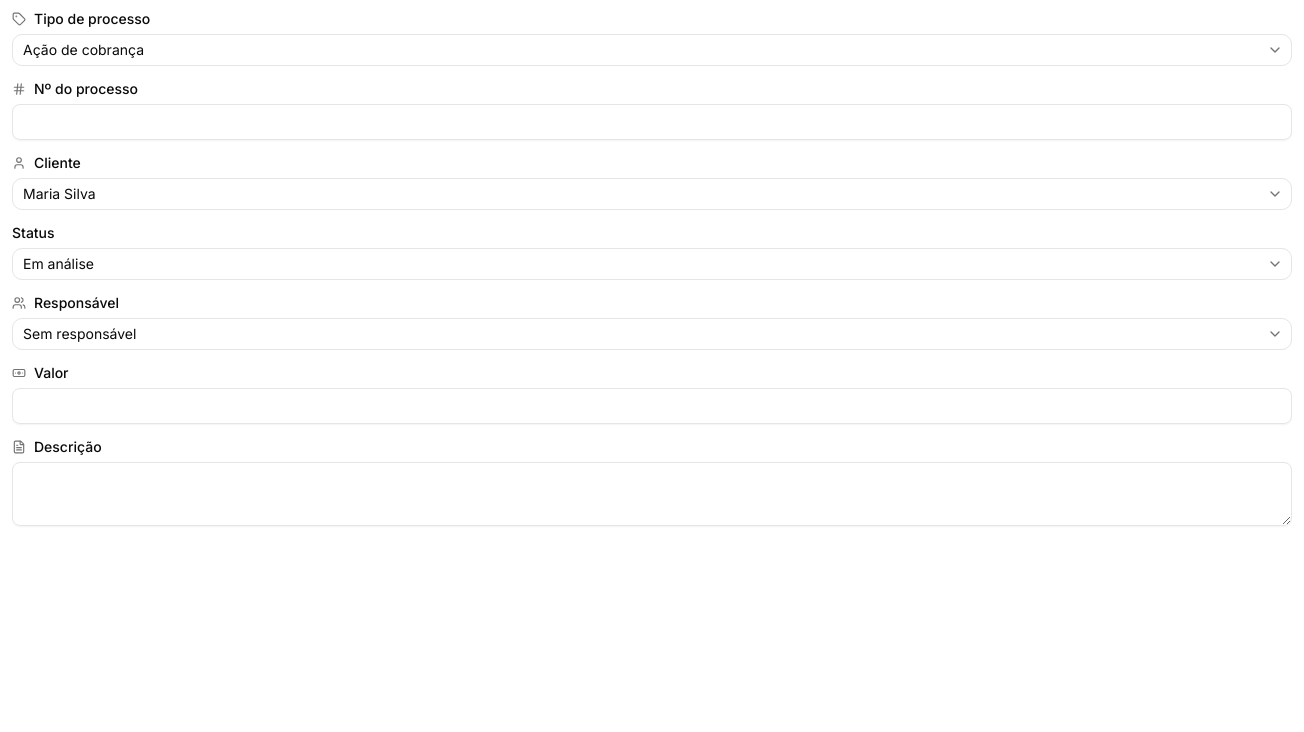
Test case: CasoDados › só mostra o botão salvar quando nº/valor/descrição muda
The width and height of the screenshot is (1304, 732).
expect the text "Em análise" is shown: met, box [23, 255, 94, 272]
expect the button "Salvar alterações" is not shown: met
Type "0001" into the field labelled "Nº do processo" at (652, 122), box [12, 104, 1292, 140]
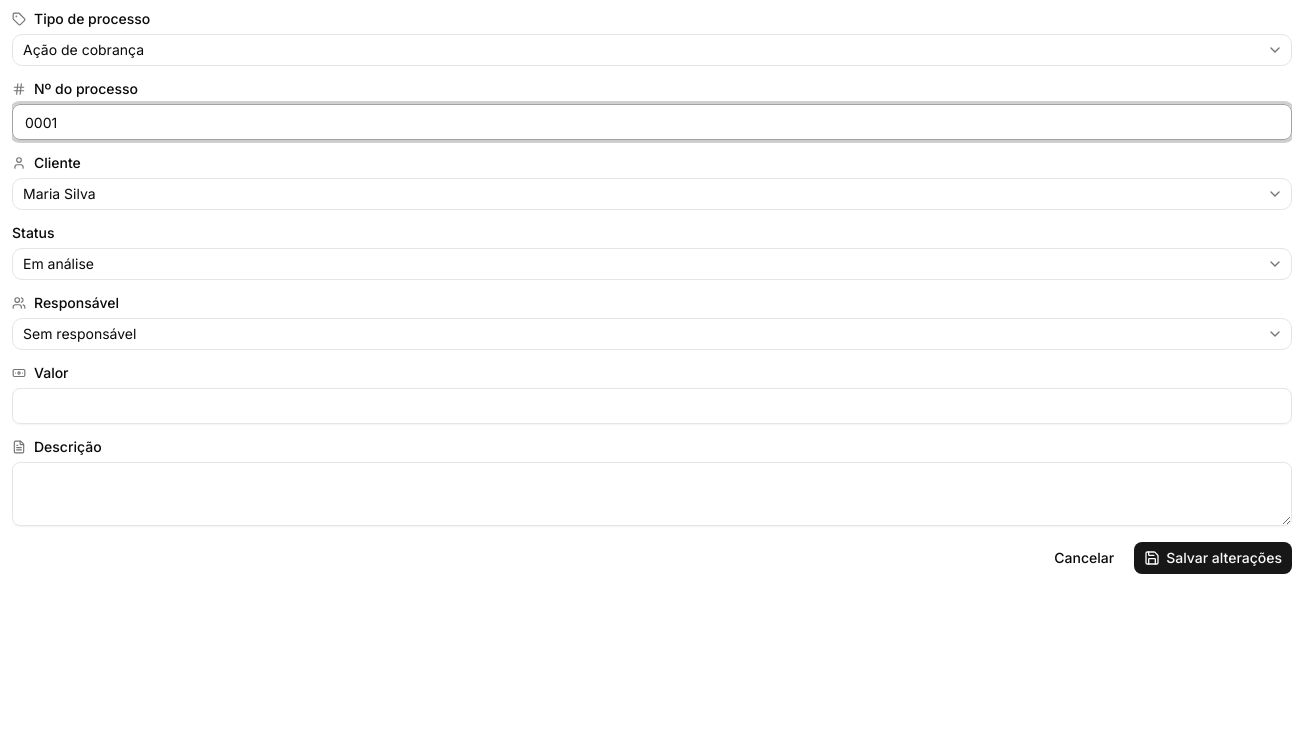
expect the button "Salvar alterações" is shown: met, box [1134, 542, 1292, 574]
